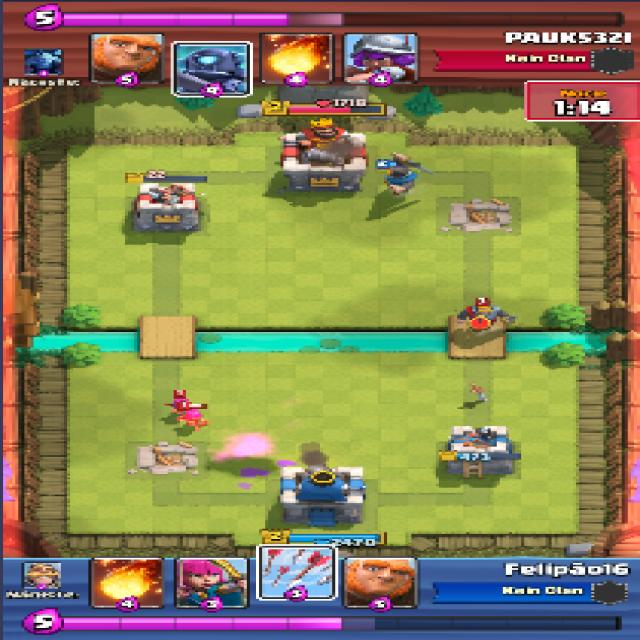Enemy-Archer: (177, 409, 211, 429), (164, 397, 191, 415)
Enemy-Knight: (456, 303, 514, 331)
Player-Knight: (377, 153, 422, 194)
